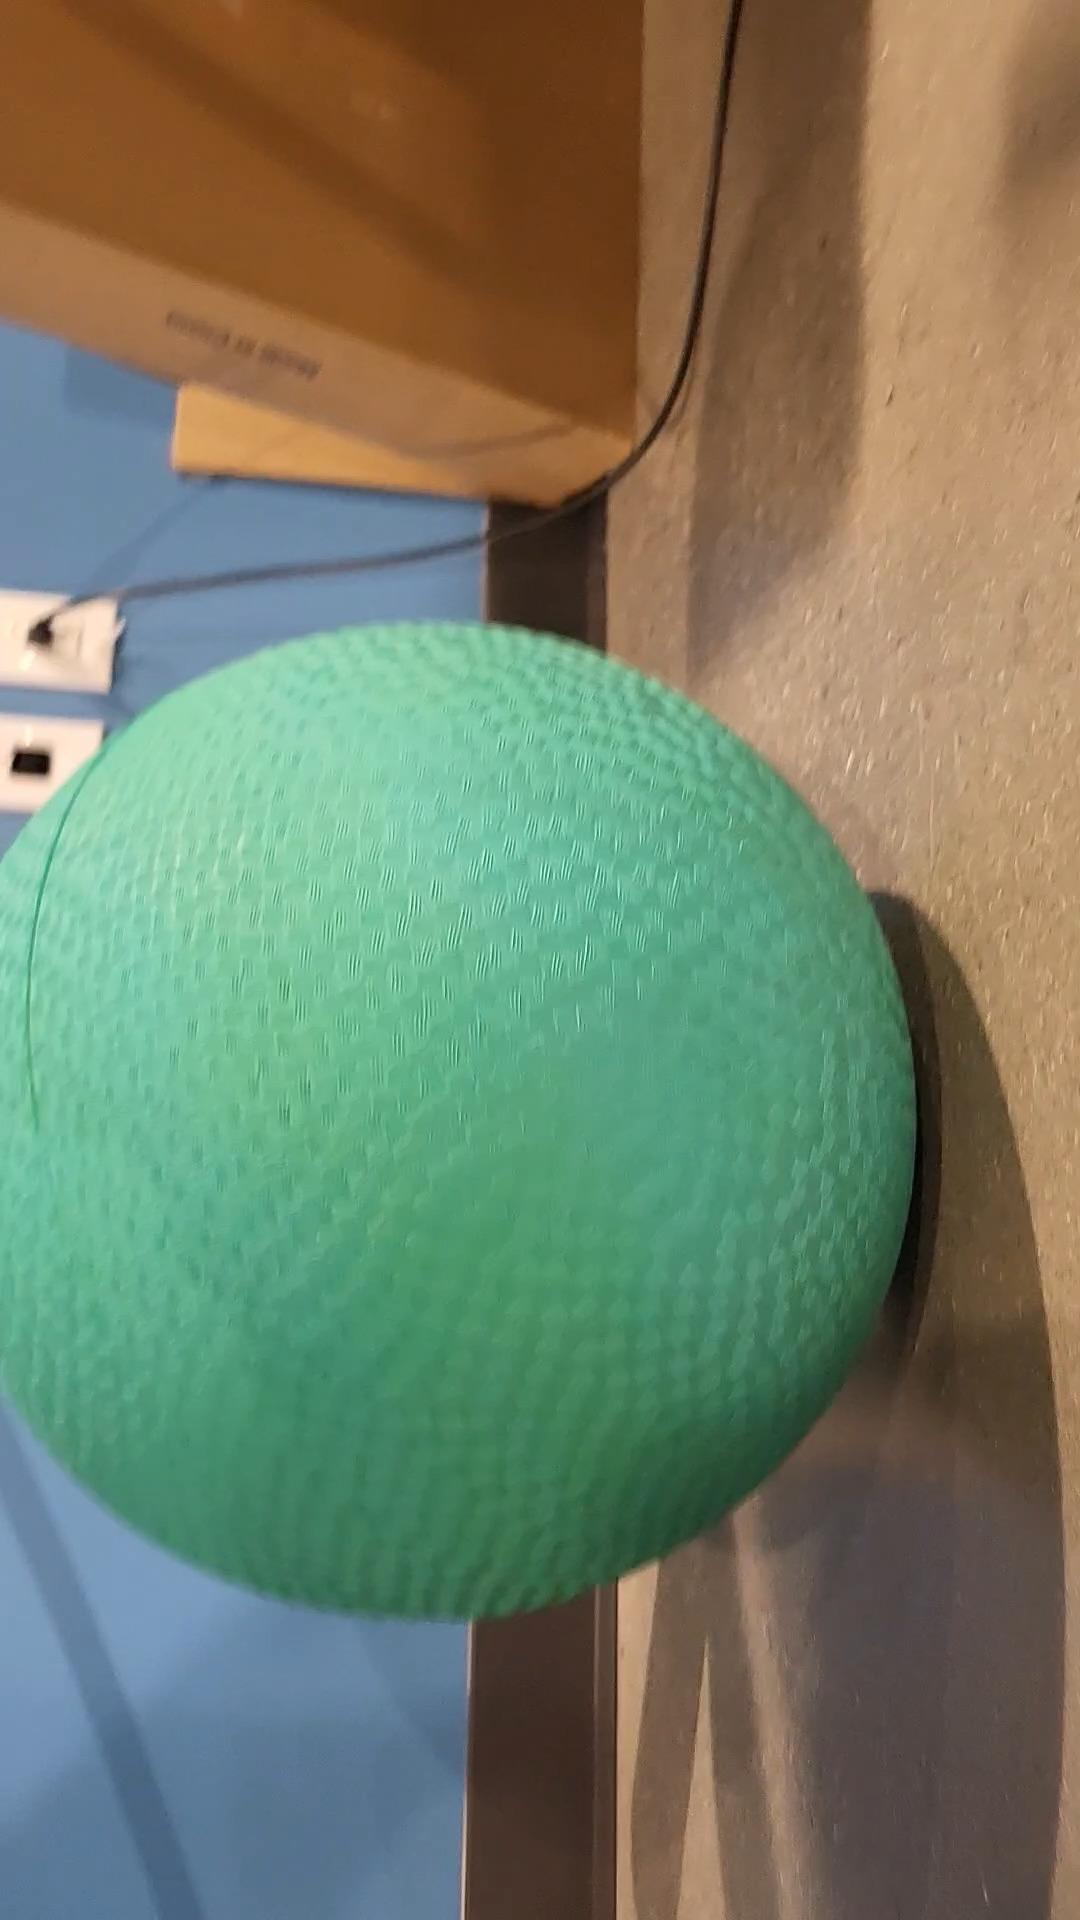algae: (0, 604, 943, 1621)
